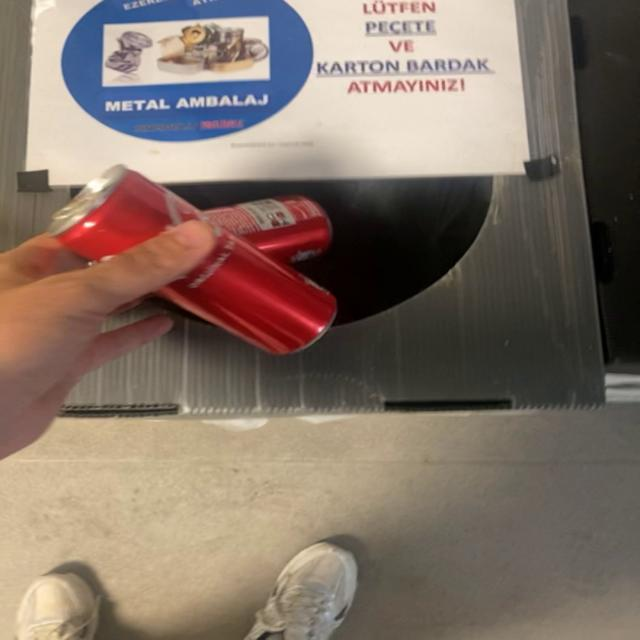bin: (24, 0, 603, 415)
metal: (48, 165, 335, 354)
